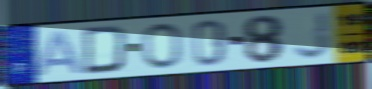0: (191, 18, 228, 68)
8: (242, 13, 287, 65)
A: (33, 28, 86, 78)
D: (81, 24, 131, 76)
J: (292, 10, 332, 61)
O: (140, 22, 185, 70)
